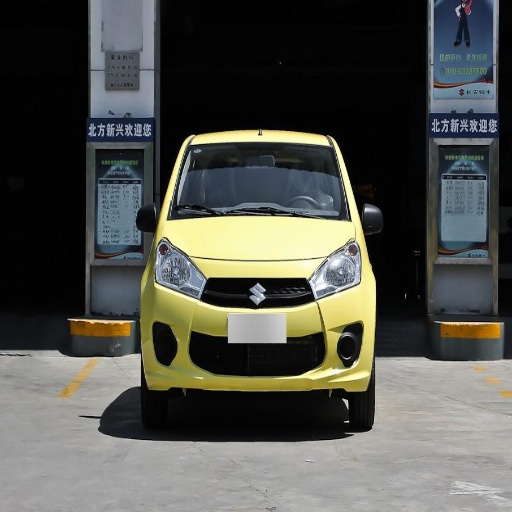front_bumper: (143, 257, 375, 394)
front_right_light: (154, 241, 201, 294)
hood: (163, 217, 355, 258)
